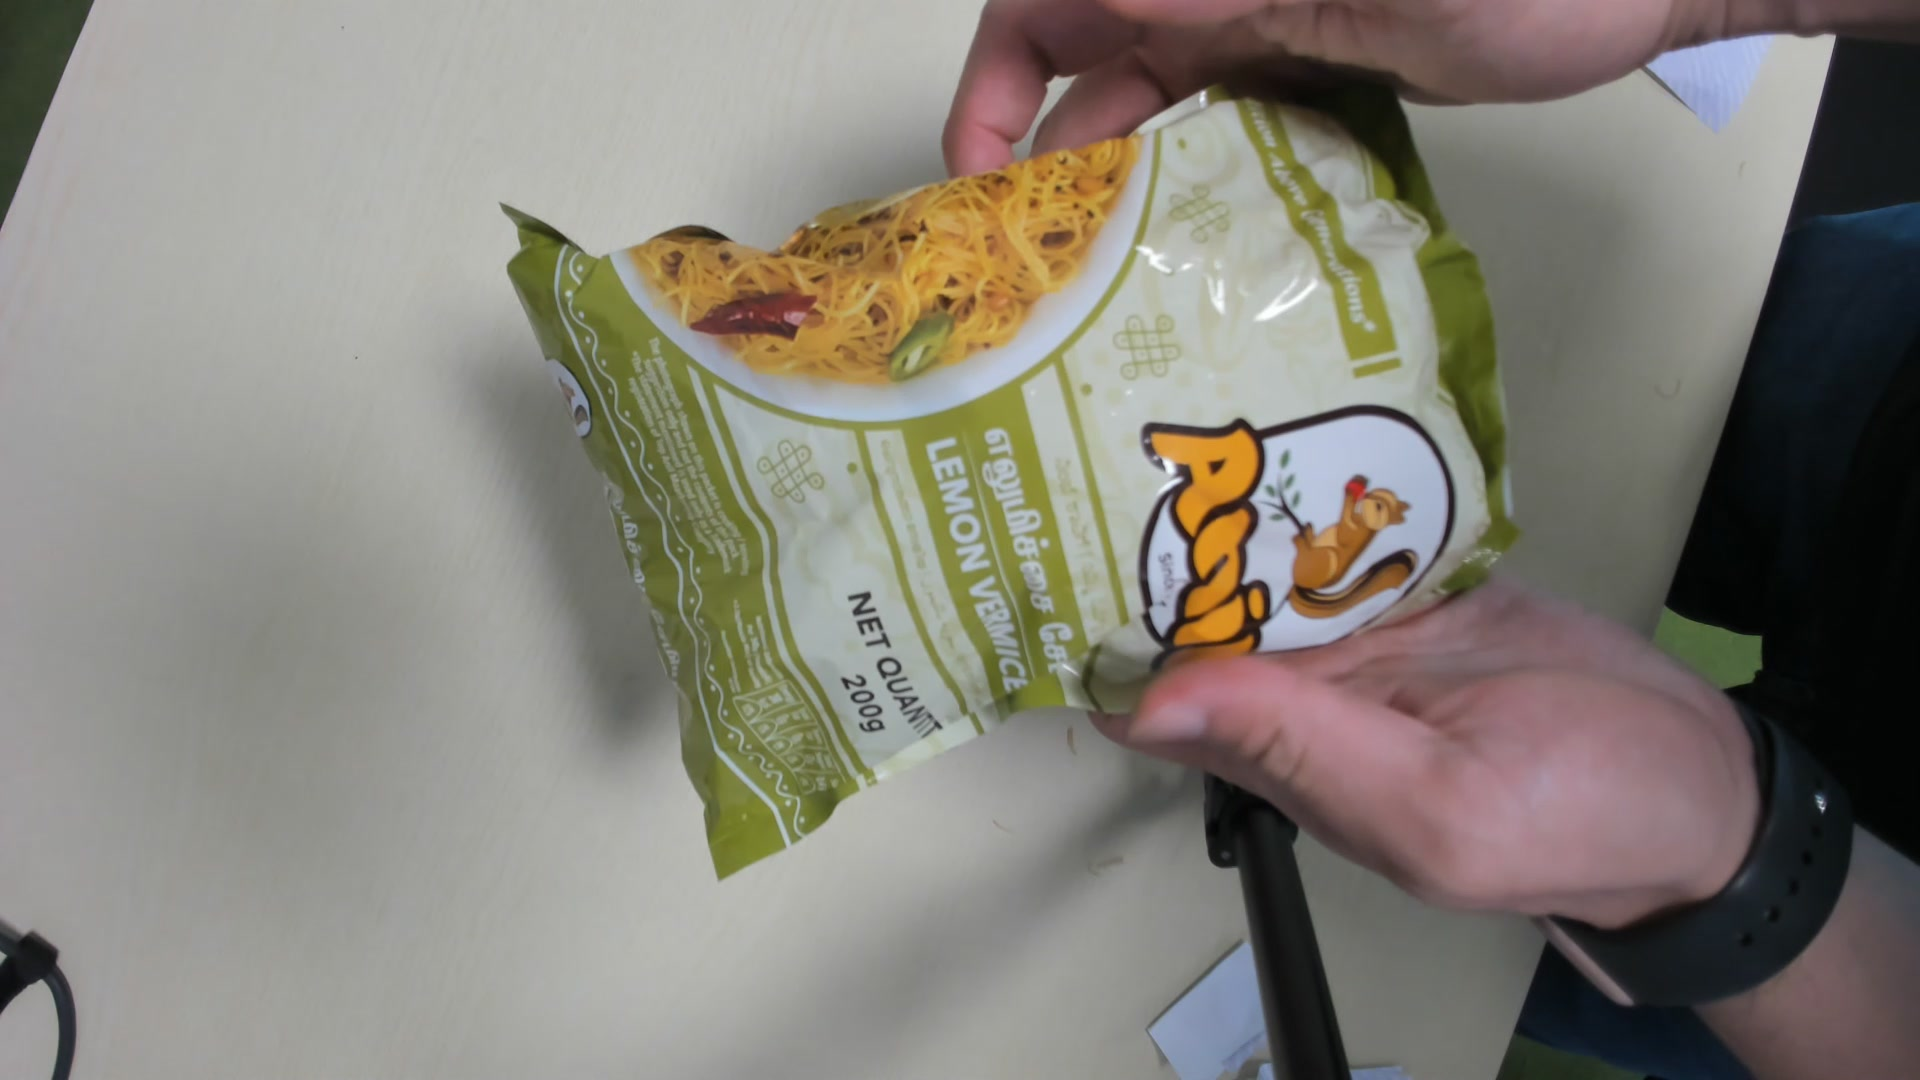BeeHoonVermicelli_200-299g_NonHalal_NonHealthy: (501, 55, 1522, 887)
